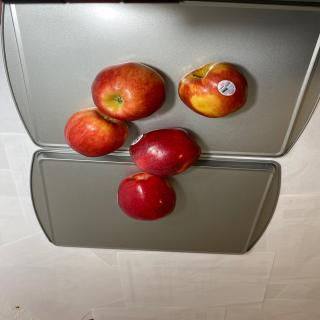Apple: (91, 62, 166, 122), (178, 62, 248, 118), (129, 127, 201, 177), (64, 107, 129, 158), (117, 172, 177, 221)
